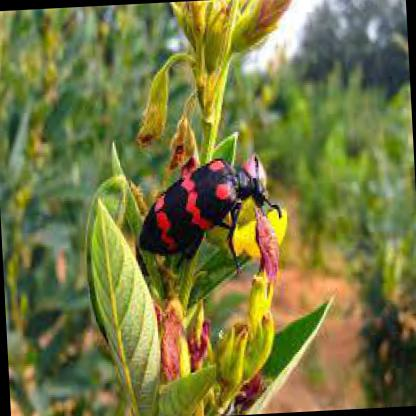blister beetle: (137, 153, 265, 255)
